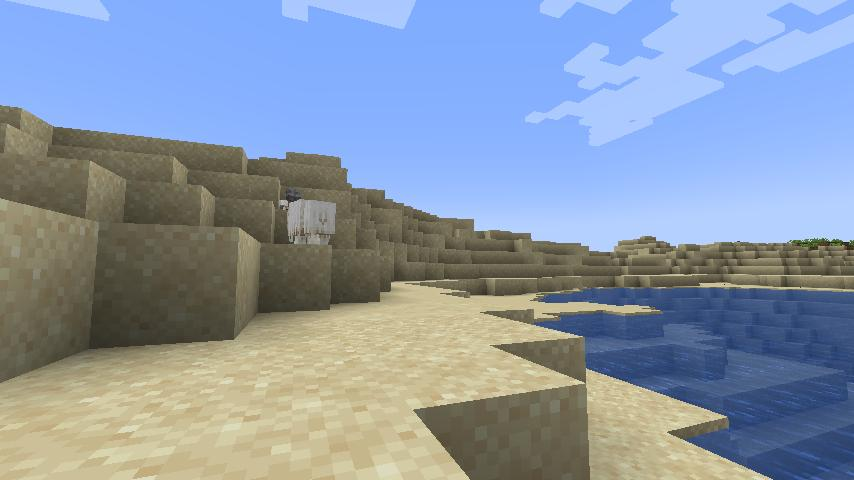goat: (280, 187, 338, 247)
